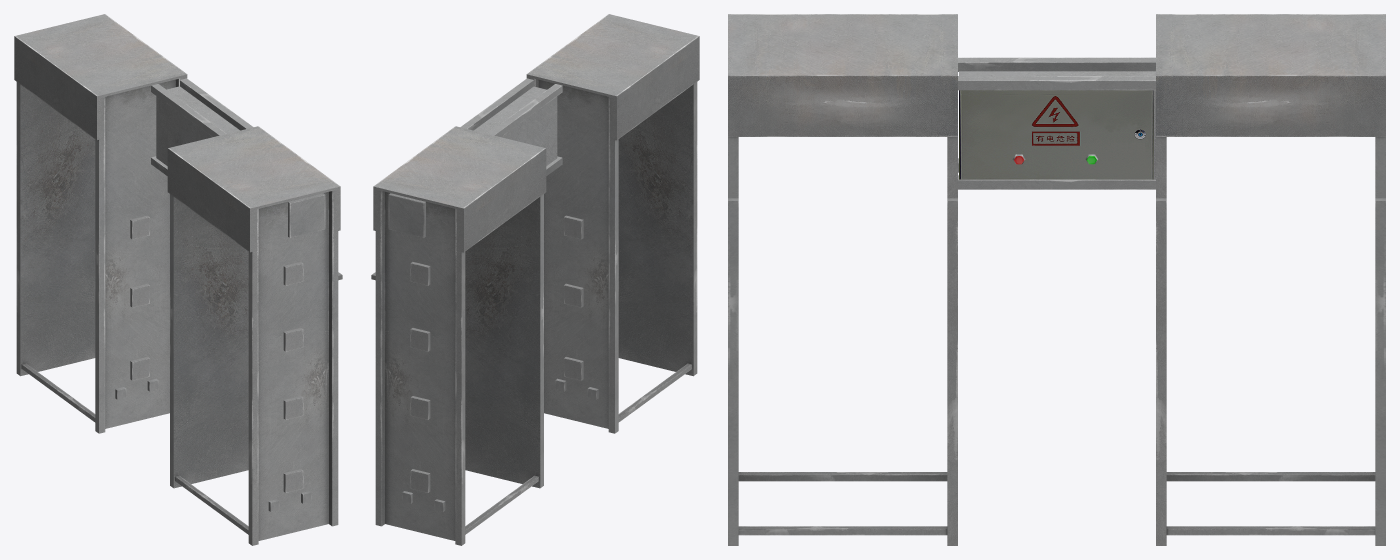
The model's file is jiandanqi_01.FBX.
3 renders of one model, left to right at view 1: azimuth 30°, elevation 25°; view 2: azimuth 150°, elevation 25°; view 3: azimuth 270°, elevation 25°, orthographic. The views are drawn at different scales.
Parts seen in each view (by area): view 1: jiandanqi_01; view 2: jiandanqi_01; view 3: jiandanqi_01.
Part boxes in pixels (x1,y1,x2,y2): jiandanqi_01: [14, 14, 342, 545]; jiandanqi_01: [371, 14, 699, 545]; jiandanqi_01: [728, 14, 1385, 545].
Size of the model in its own units: 85.87 by 300 by 379.
